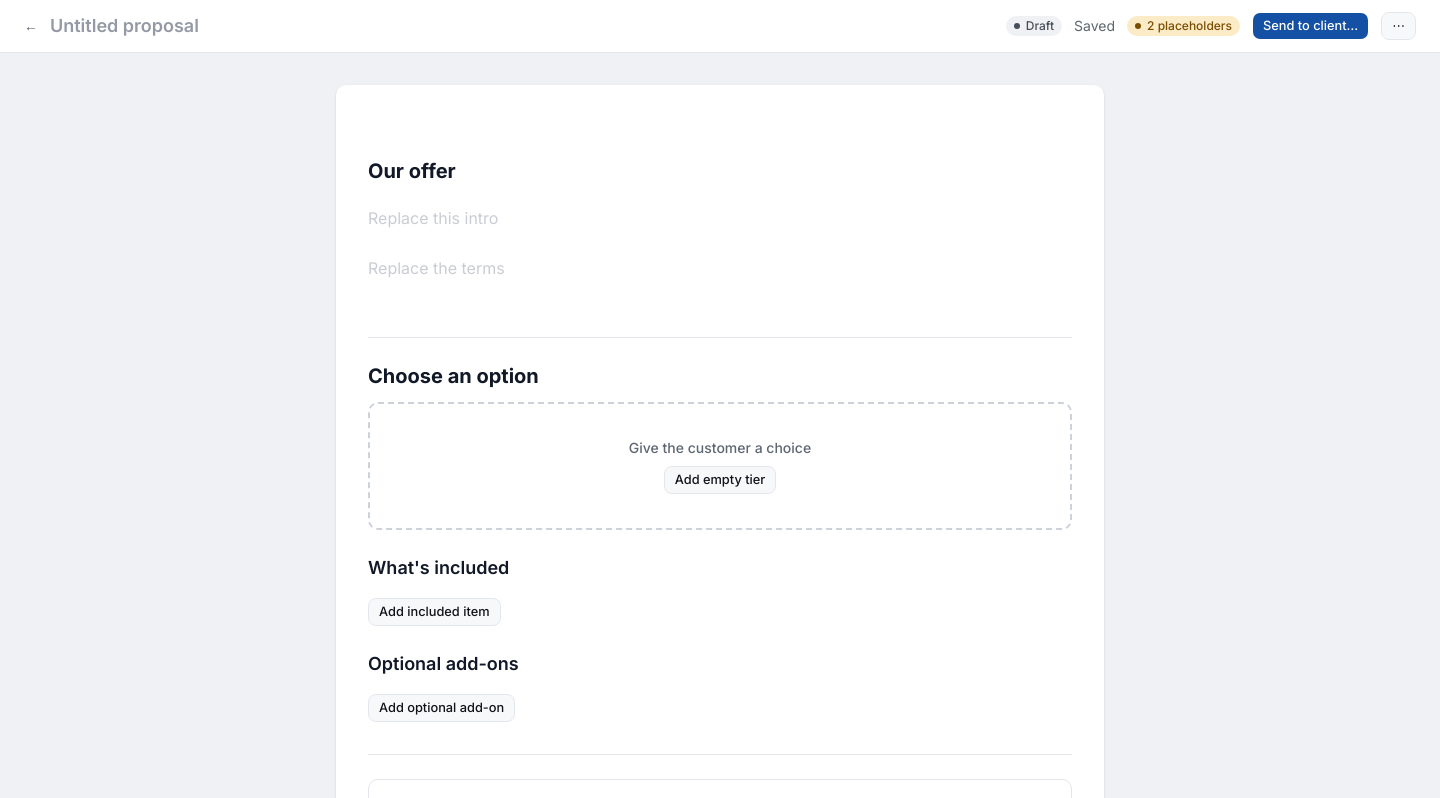
Scenario: ProposalBuilderClient autosave › re-seeds from what the server persisted, so a dropped block disappears
Click the button "Our offer".
click(412, 171)  # box [368,159,456,183]
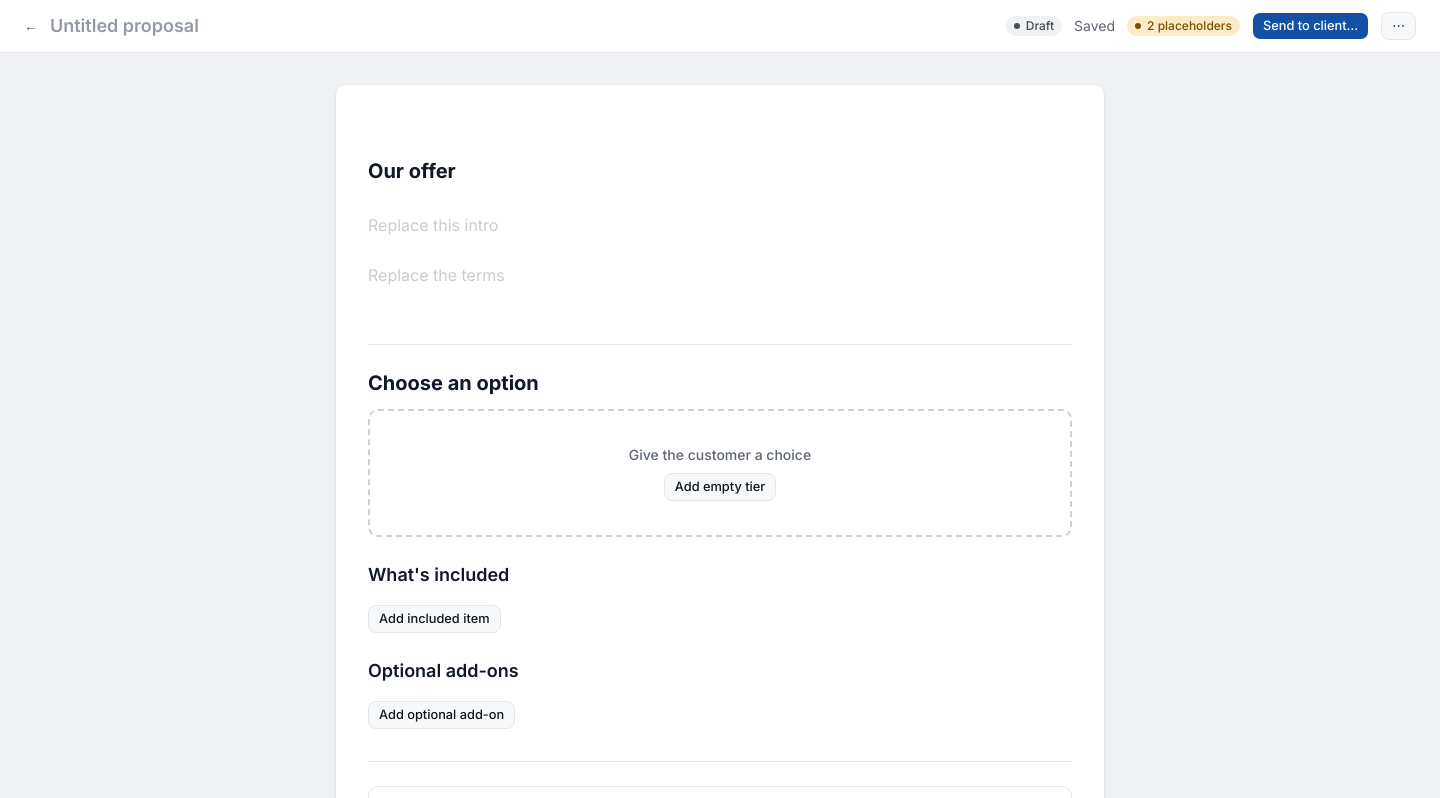
Replace the text in the text box named "Heading" with "Edited" at (720, 171), box [368,157,1072,185]
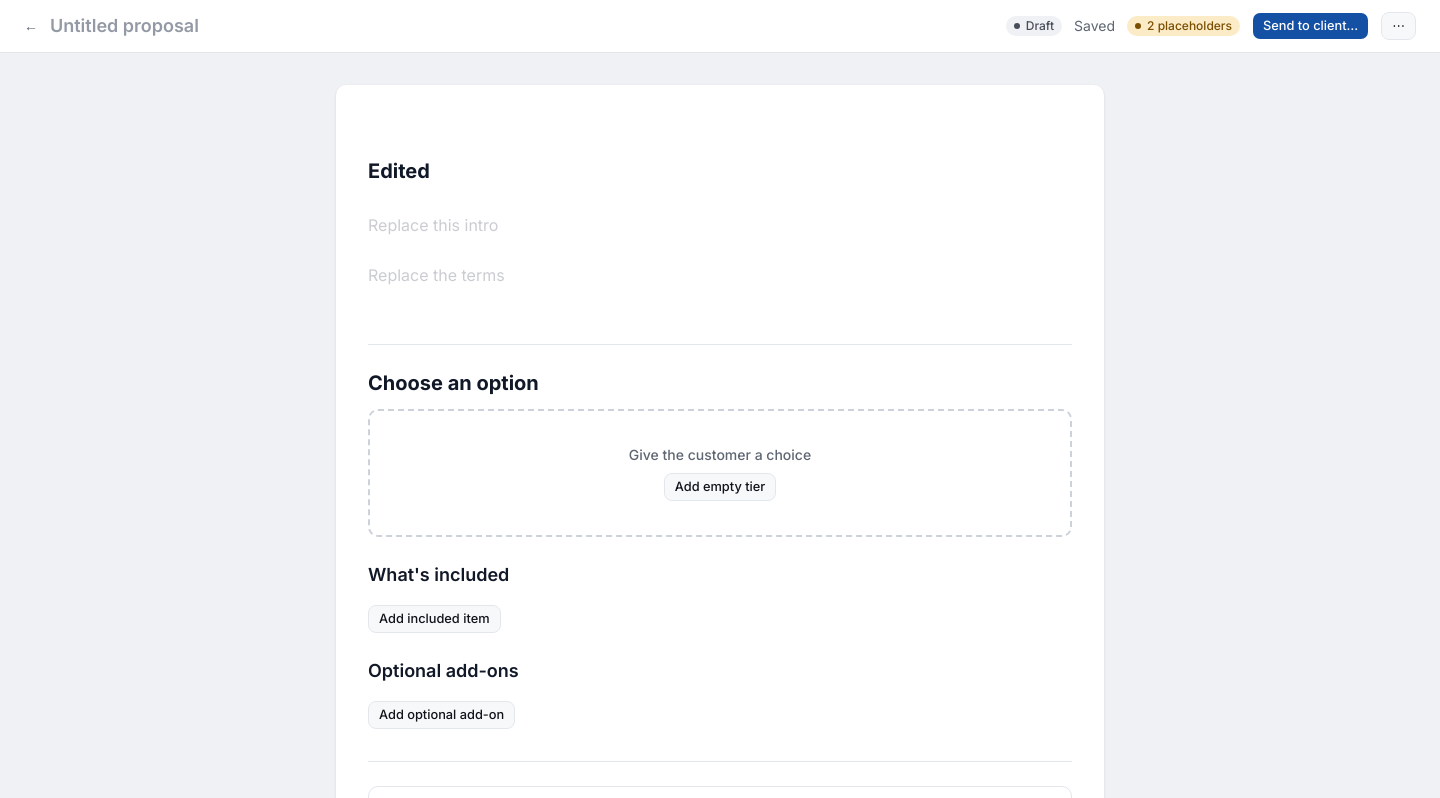
Press Enter in the text box named "Heading", box [368,157,1072,185]
Wait 900 ms
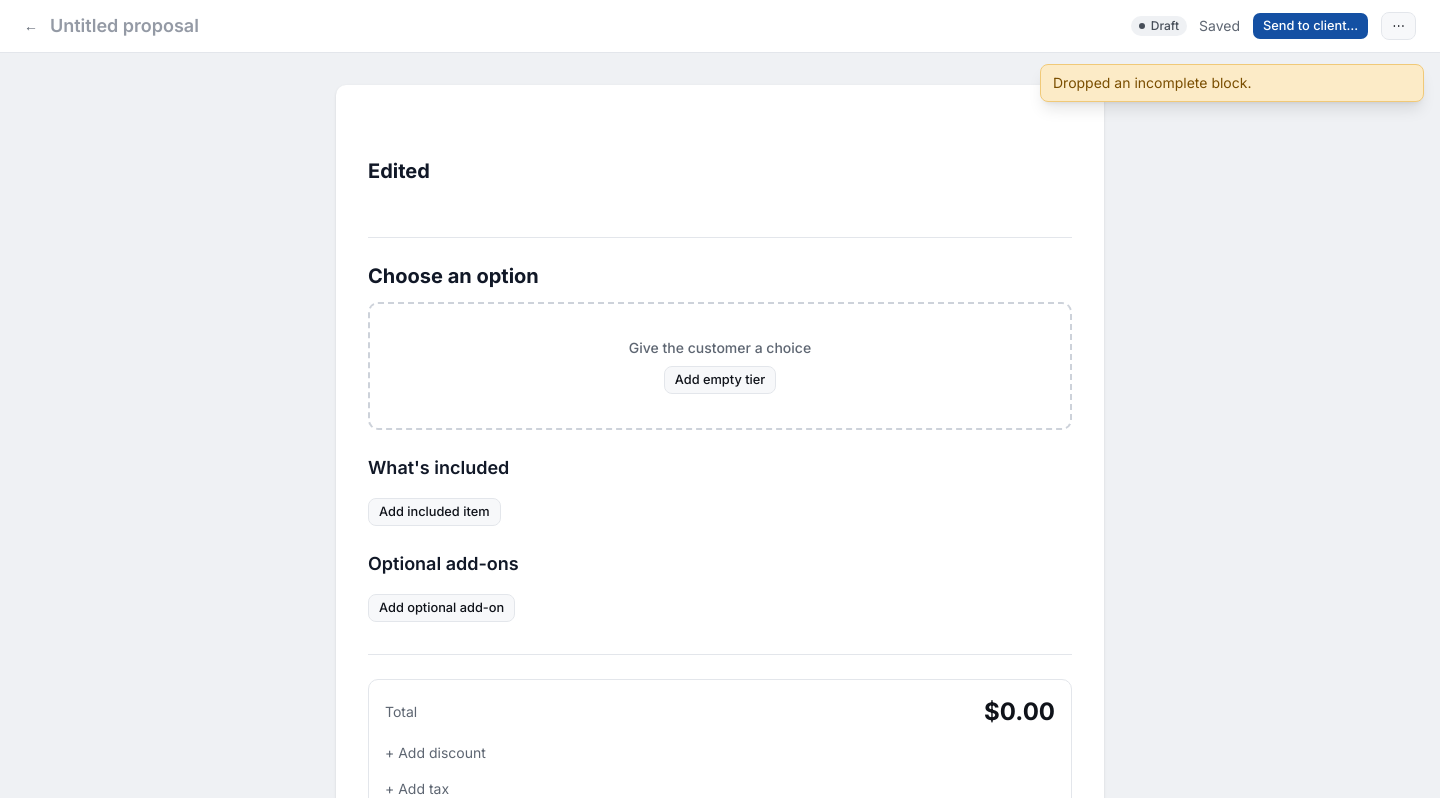
Check: the button "Replace this intro" is gone
Check: the text "Dropped an incomplete block." is shown, box [1040,64,1424,102]
